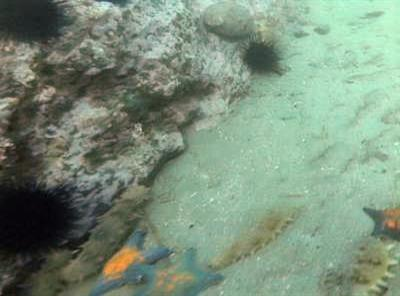urchin: (0, 169, 82, 260), (0, 0, 67, 41), (244, 38, 283, 76)
